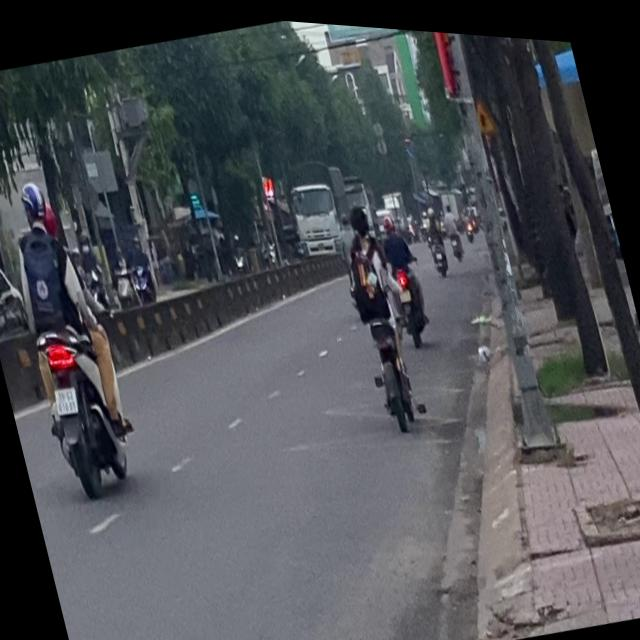helmet: (15, 176, 50, 227)
licenseplate: (0, 164, 148, 506)
motorcyclist: (343, 195, 372, 238)
nohelmet: (51, 382, 78, 415)
